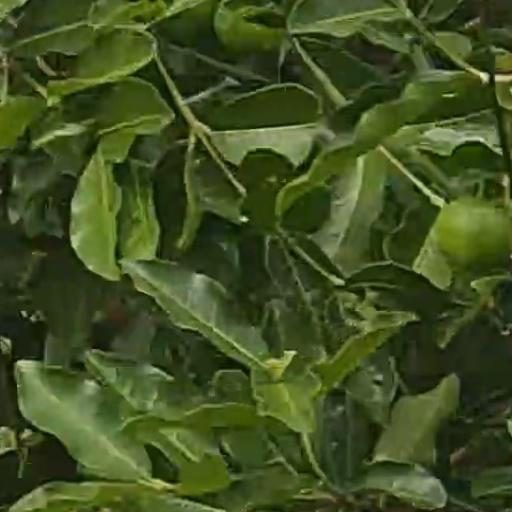acerola_verde: (437, 198, 509, 266)
